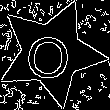O_N: (26, 25, 76, 81)
